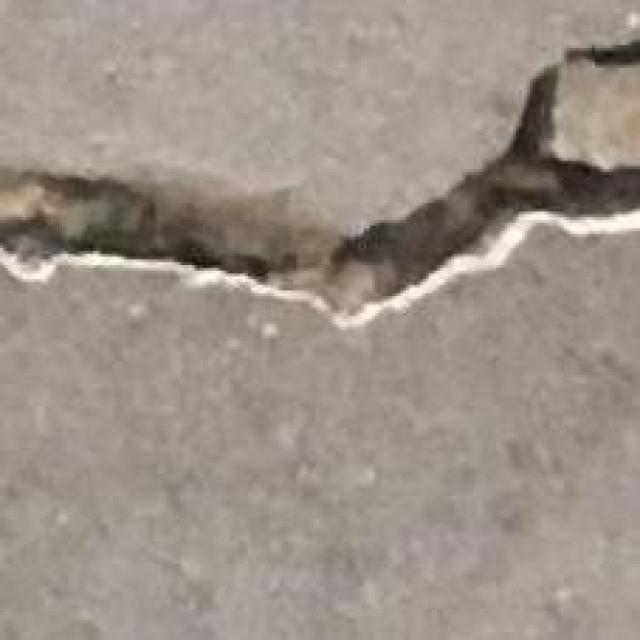branched cracks: (0, 40, 639, 313)
